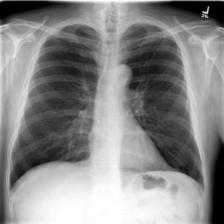normal: (5, 18, 207, 202)
